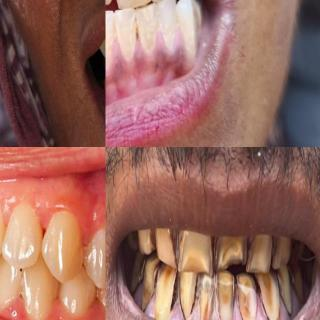Gum Swelling: (36, 201, 106, 247), (43, 301, 106, 320)
calculus: (118, 20, 140, 66), (160, 5, 178, 56), (180, 12, 196, 66), (140, 19, 156, 63), (106, 21, 118, 71)
maligned: (173, 0, 199, 68)
stains: (175, 268, 201, 320), (155, 268, 179, 320), (253, 277, 281, 320), (234, 276, 260, 320), (141, 262, 161, 309), (214, 271, 233, 320), (276, 272, 294, 320), (241, 226, 257, 272), (130, 256, 146, 300), (206, 222, 220, 272), (166, 225, 180, 271), (287, 269, 303, 308), (289, 221, 303, 263), (270, 224, 280, 268), (147, 222, 160, 254), (129, 228, 146, 246)
